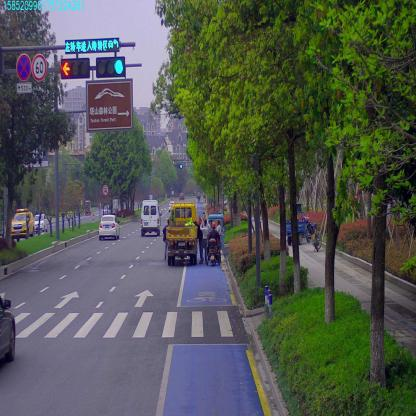traffic-light: (62, 39, 120, 53), (95, 58, 126, 76), (60, 59, 88, 75)
